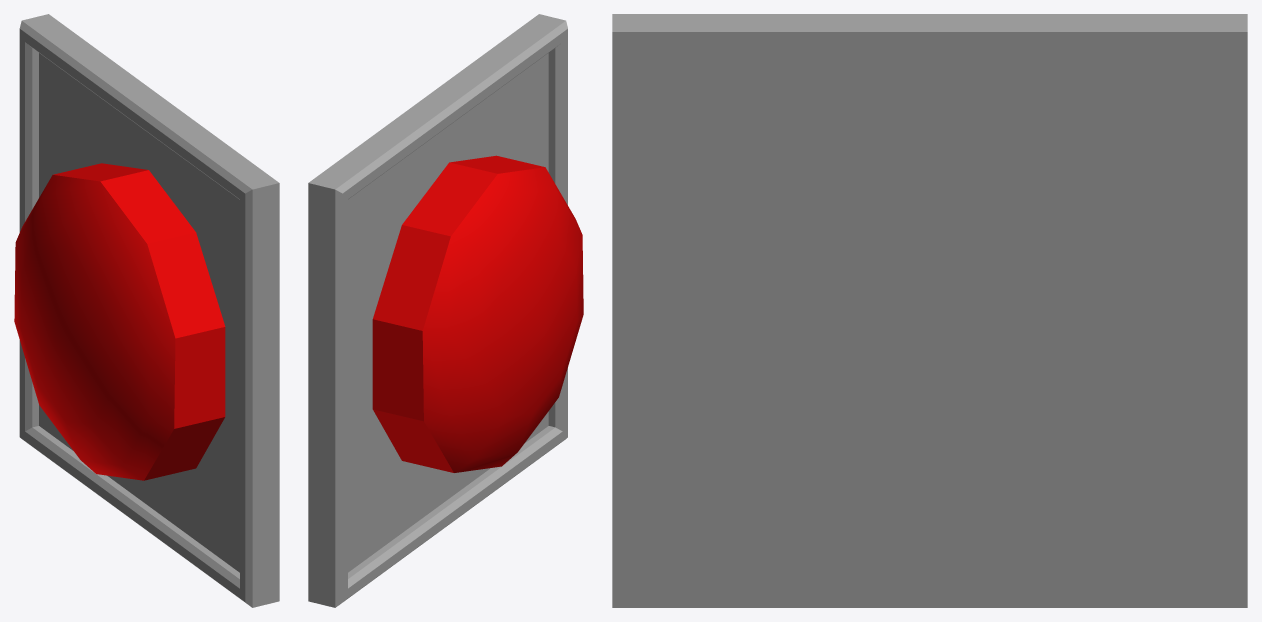
File: BaconBoxButton.fbx
3 views of the same model, side by side, from view 1: azimuth 30°, elevation 25°; view 2: azimuth 150°, elevation 25°; view 3: azimuth 270°, elevation 25° (orthographic). The views are drawn at different scales.
Parts seen in each view (by area): view 1: BaconBoxButton; view 2: BaconBoxButton; view 3: BaconBoxButton.
Boxes of the visible parts, x1,y1,x2,y2 form: BaconBoxButton: [14, 14, 279, 607]; BaconBoxButton: [308, 14, 583, 607]; BaconBoxButton: [612, 14, 1247, 607].
Size of the model in its own units: 0.0191 by 0.0669 by 0.0669.
